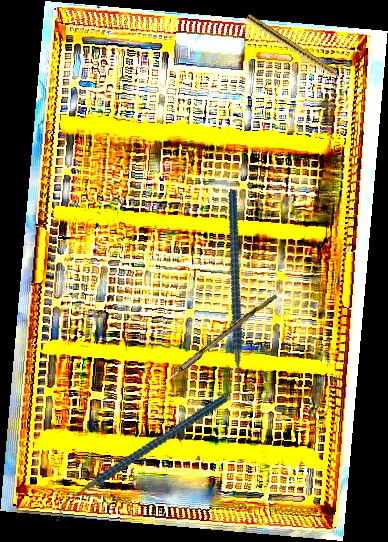Chopper: (171, 189, 311, 407), (35, 394, 247, 523)
Handpiece: (243, 13, 350, 87)
Surgical Spoon: (143, 290, 278, 402)
